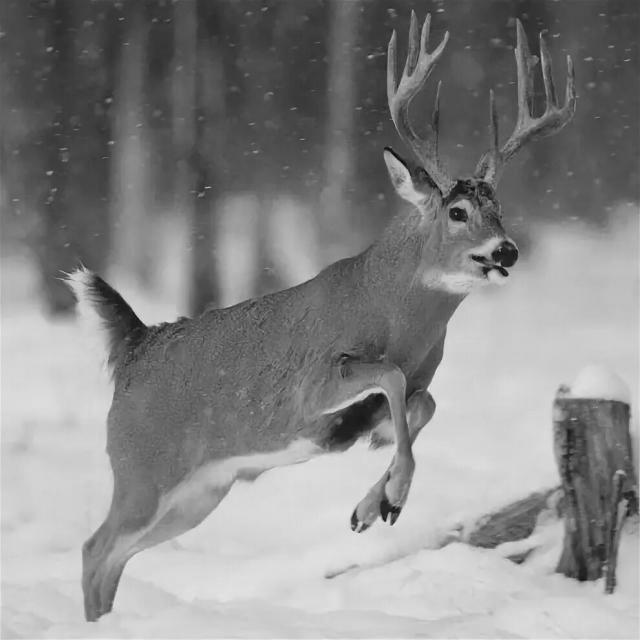Deer: (12, 80, 586, 592)
